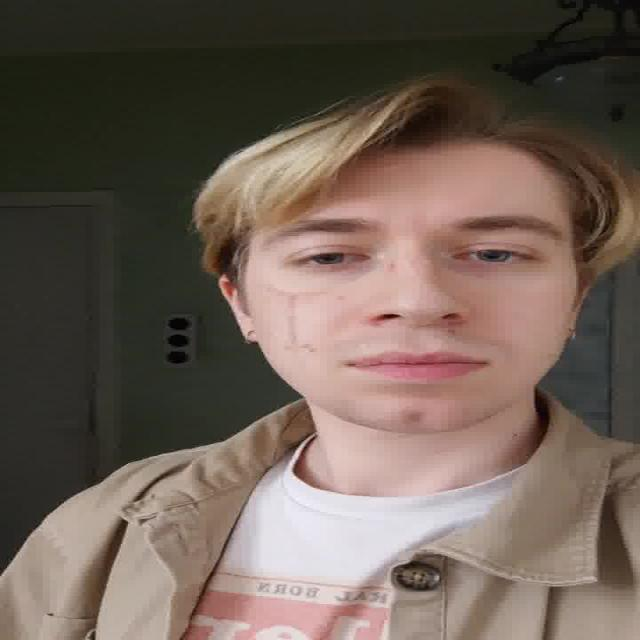earlobe: (218, 274, 259, 344)
